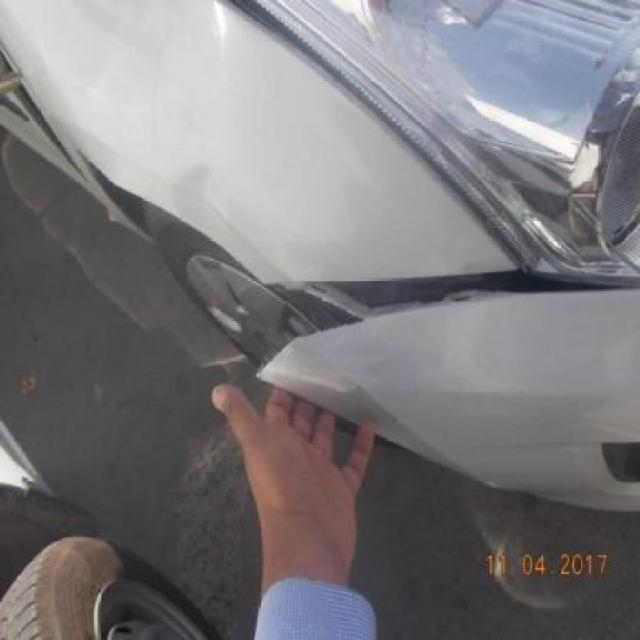damage: (255, 269, 640, 380)
